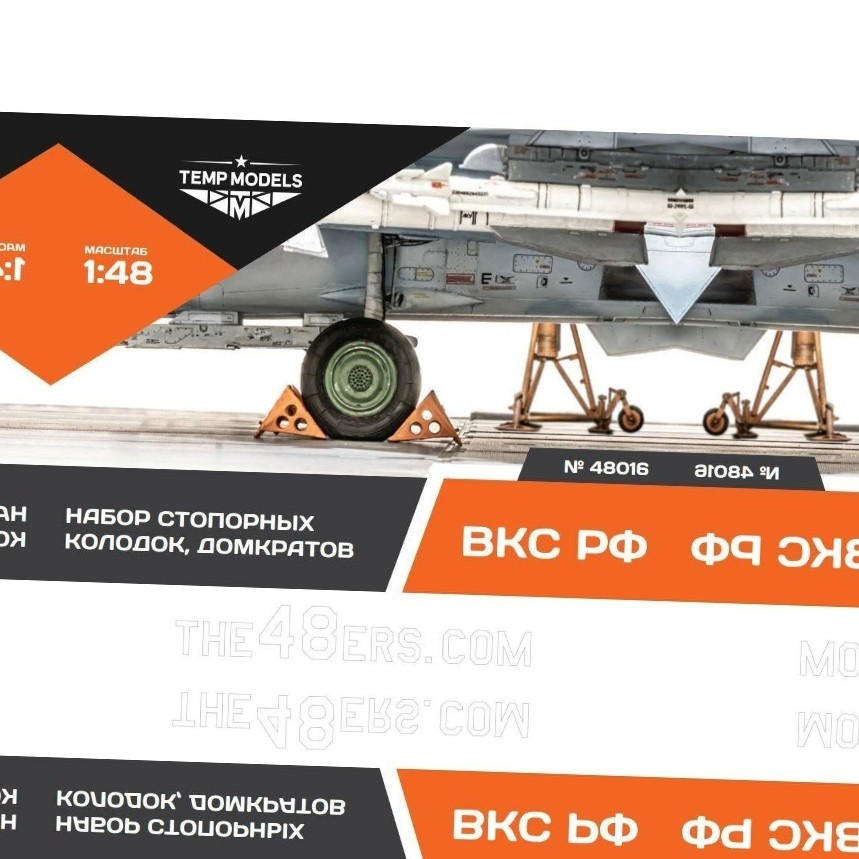chock: (386, 389, 463, 447), (254, 384, 329, 441)
wheel: (297, 312, 423, 439), (616, 403, 644, 432), (704, 406, 732, 435)
